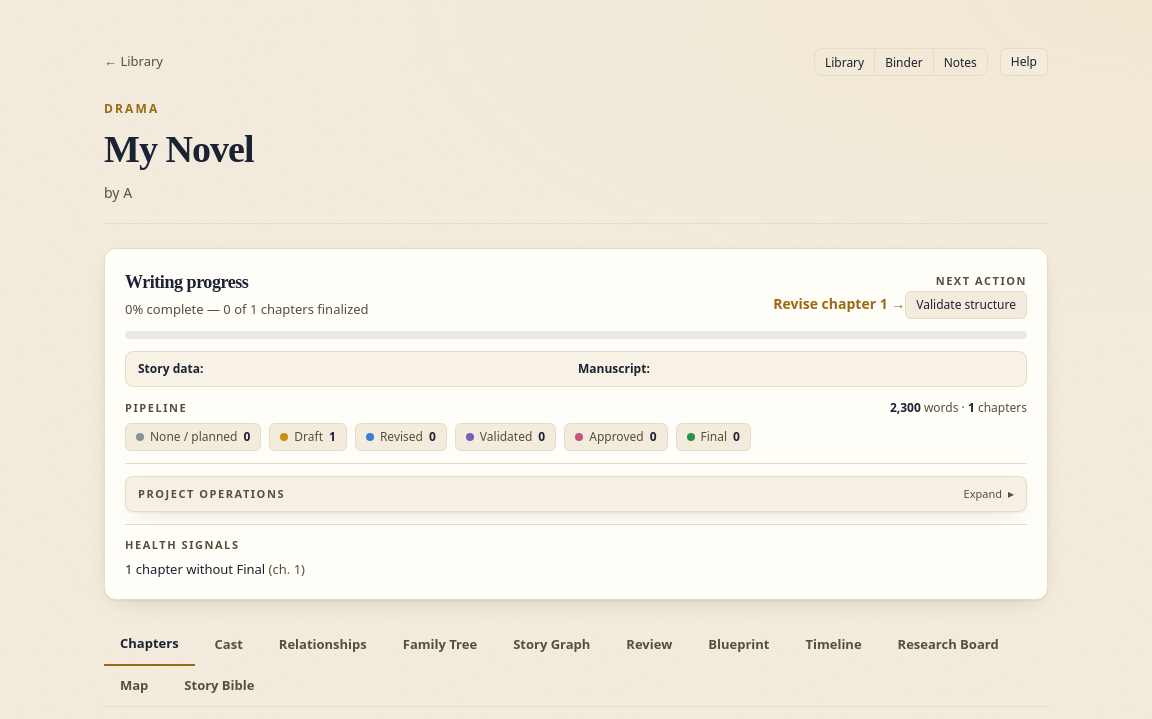
Scenario: opens review inbox tab and Mine All modal
Expected: the heading "My Novel" is shown, [104,128,254,170]
Step 1. Click the button "Review" → (649, 645), box [610,624,688,666]
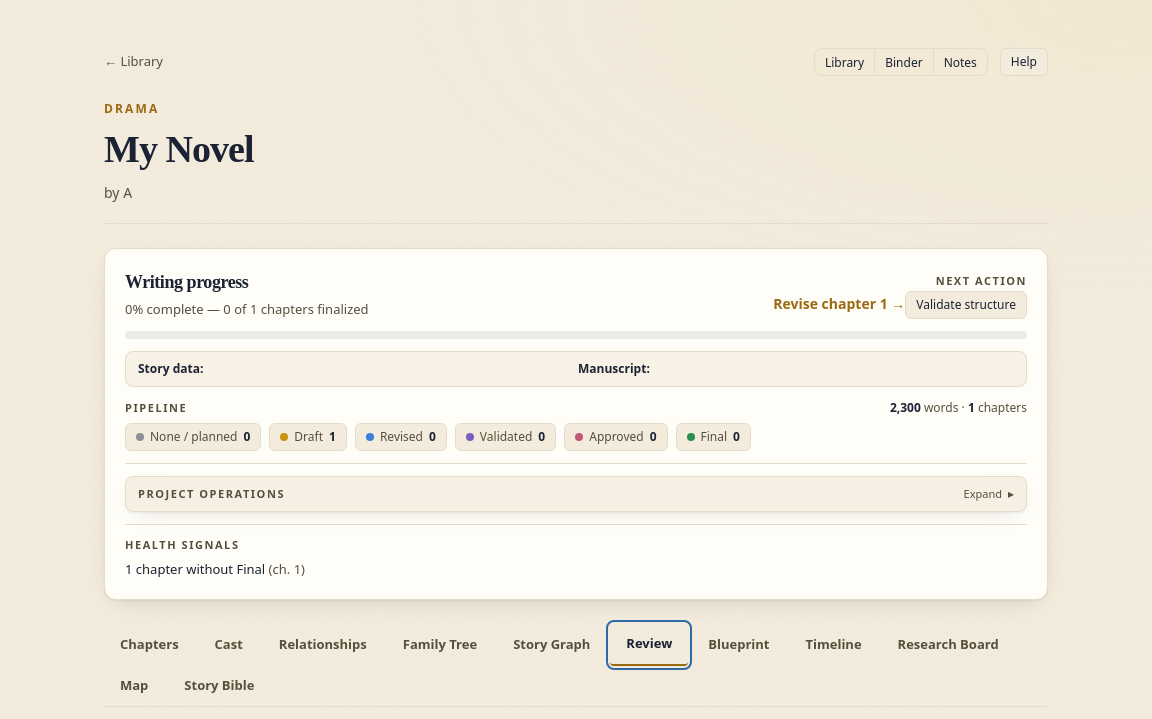
Step 2. Click the button "Project Operations Expand ▸" → (212, 494), box [125,476,1027,512]
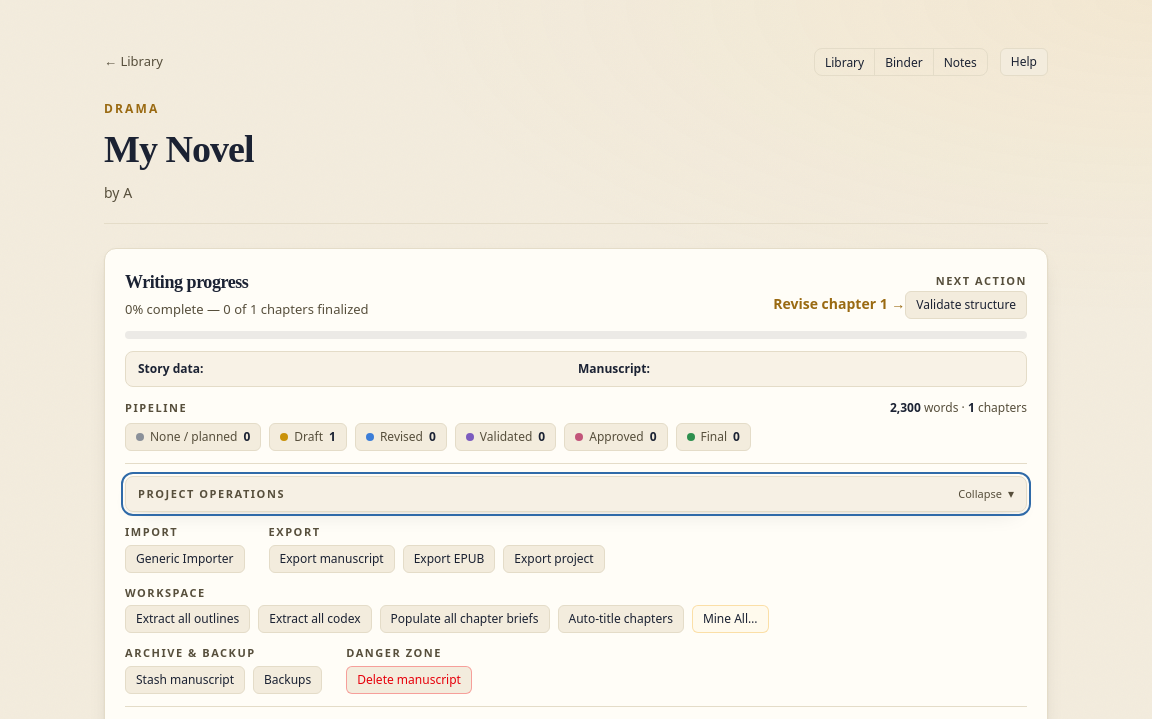
Step 3. Click the button "Mine All…" → (730, 619), box [692,605,768,633]
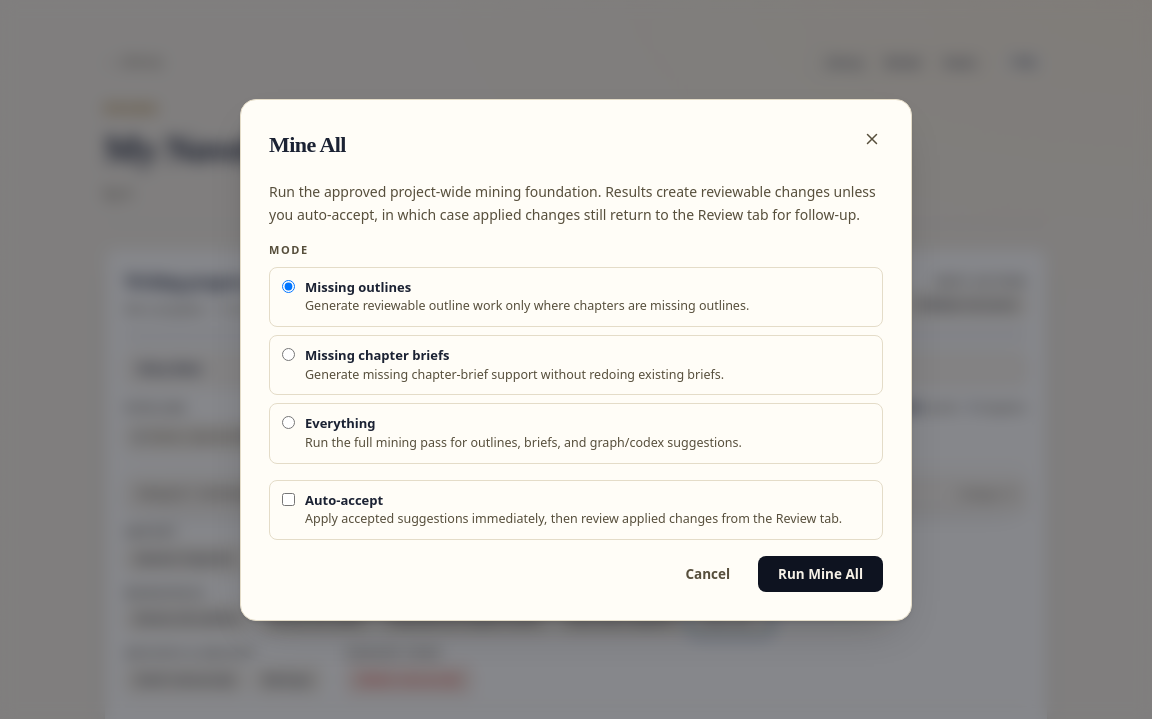
Result: the dialog "Mine All" is shown at [240,99,912,621]
Result: the text "Missing outlines" is shown at [305,278,411,296]
Result: the text "Missing chapter briefs" is shown at [305,346,450,364]
